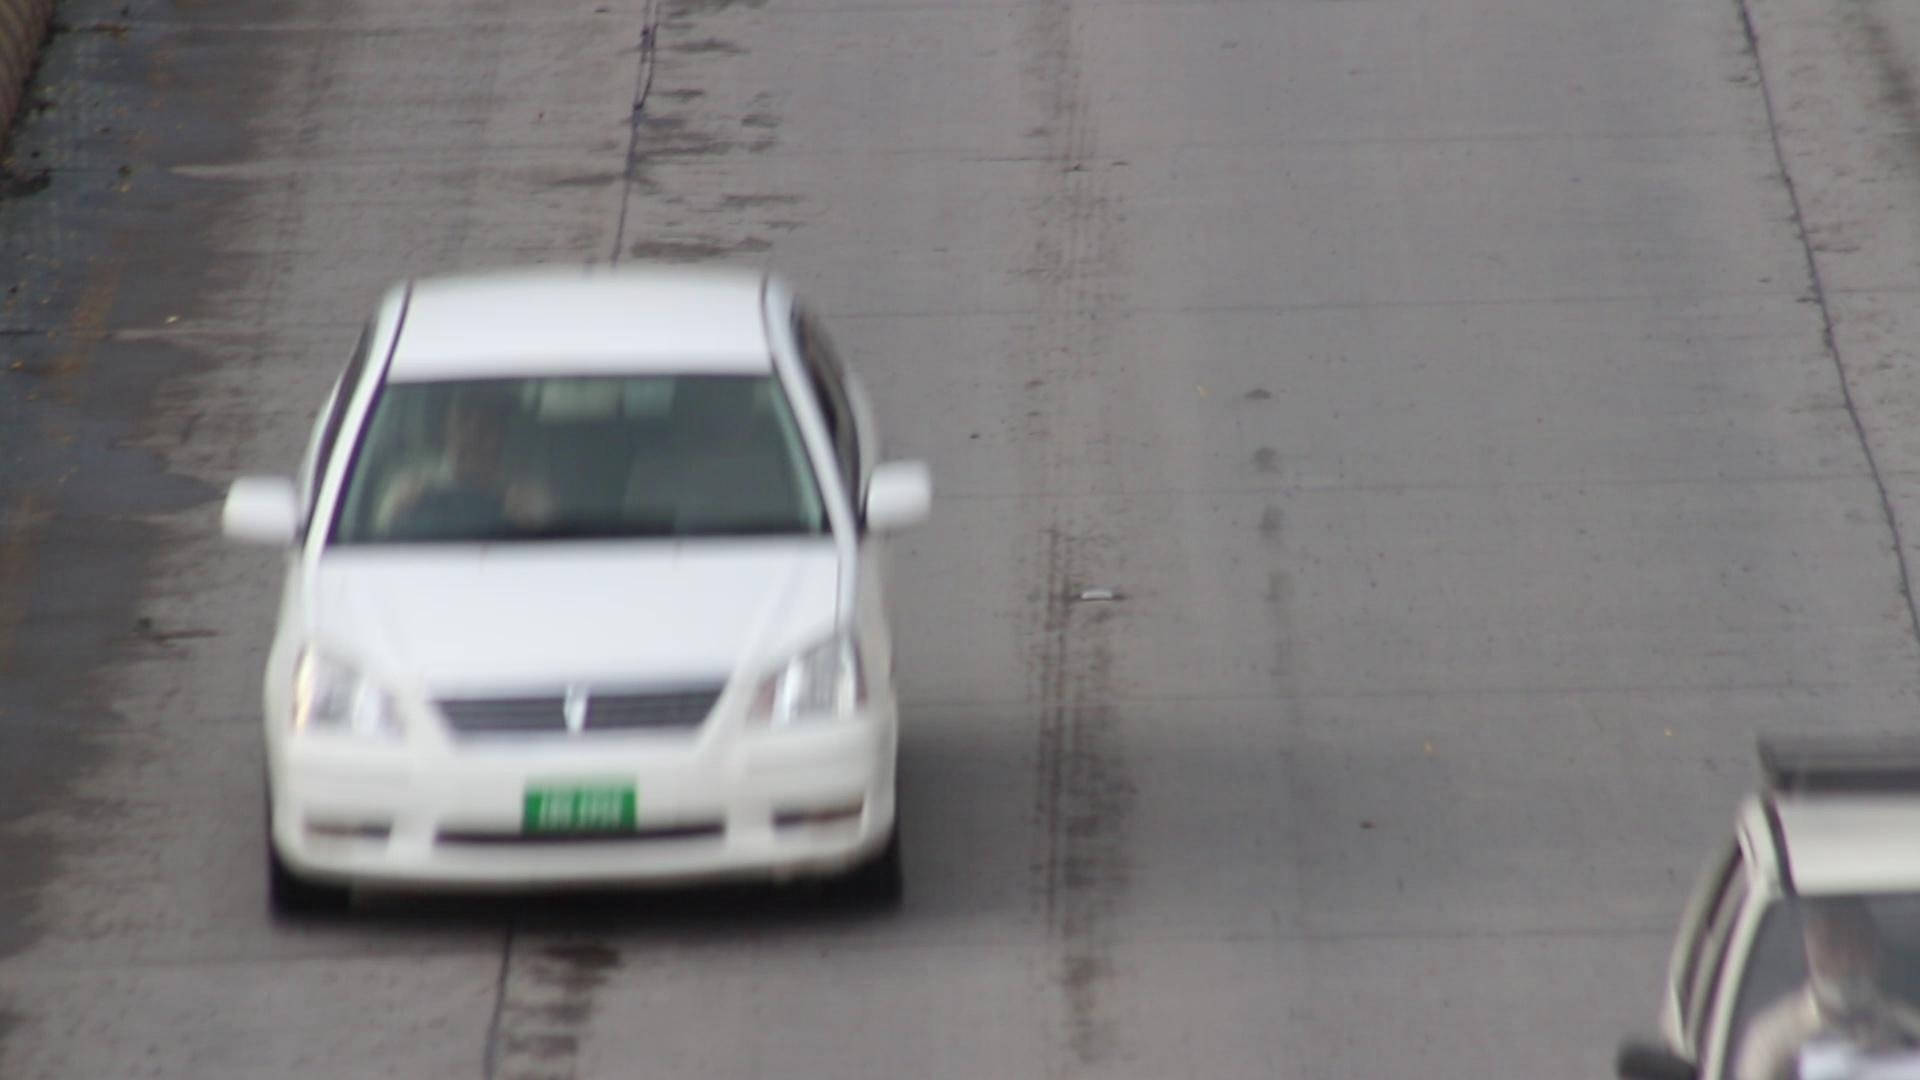windshield: (307, 349, 855, 563)
